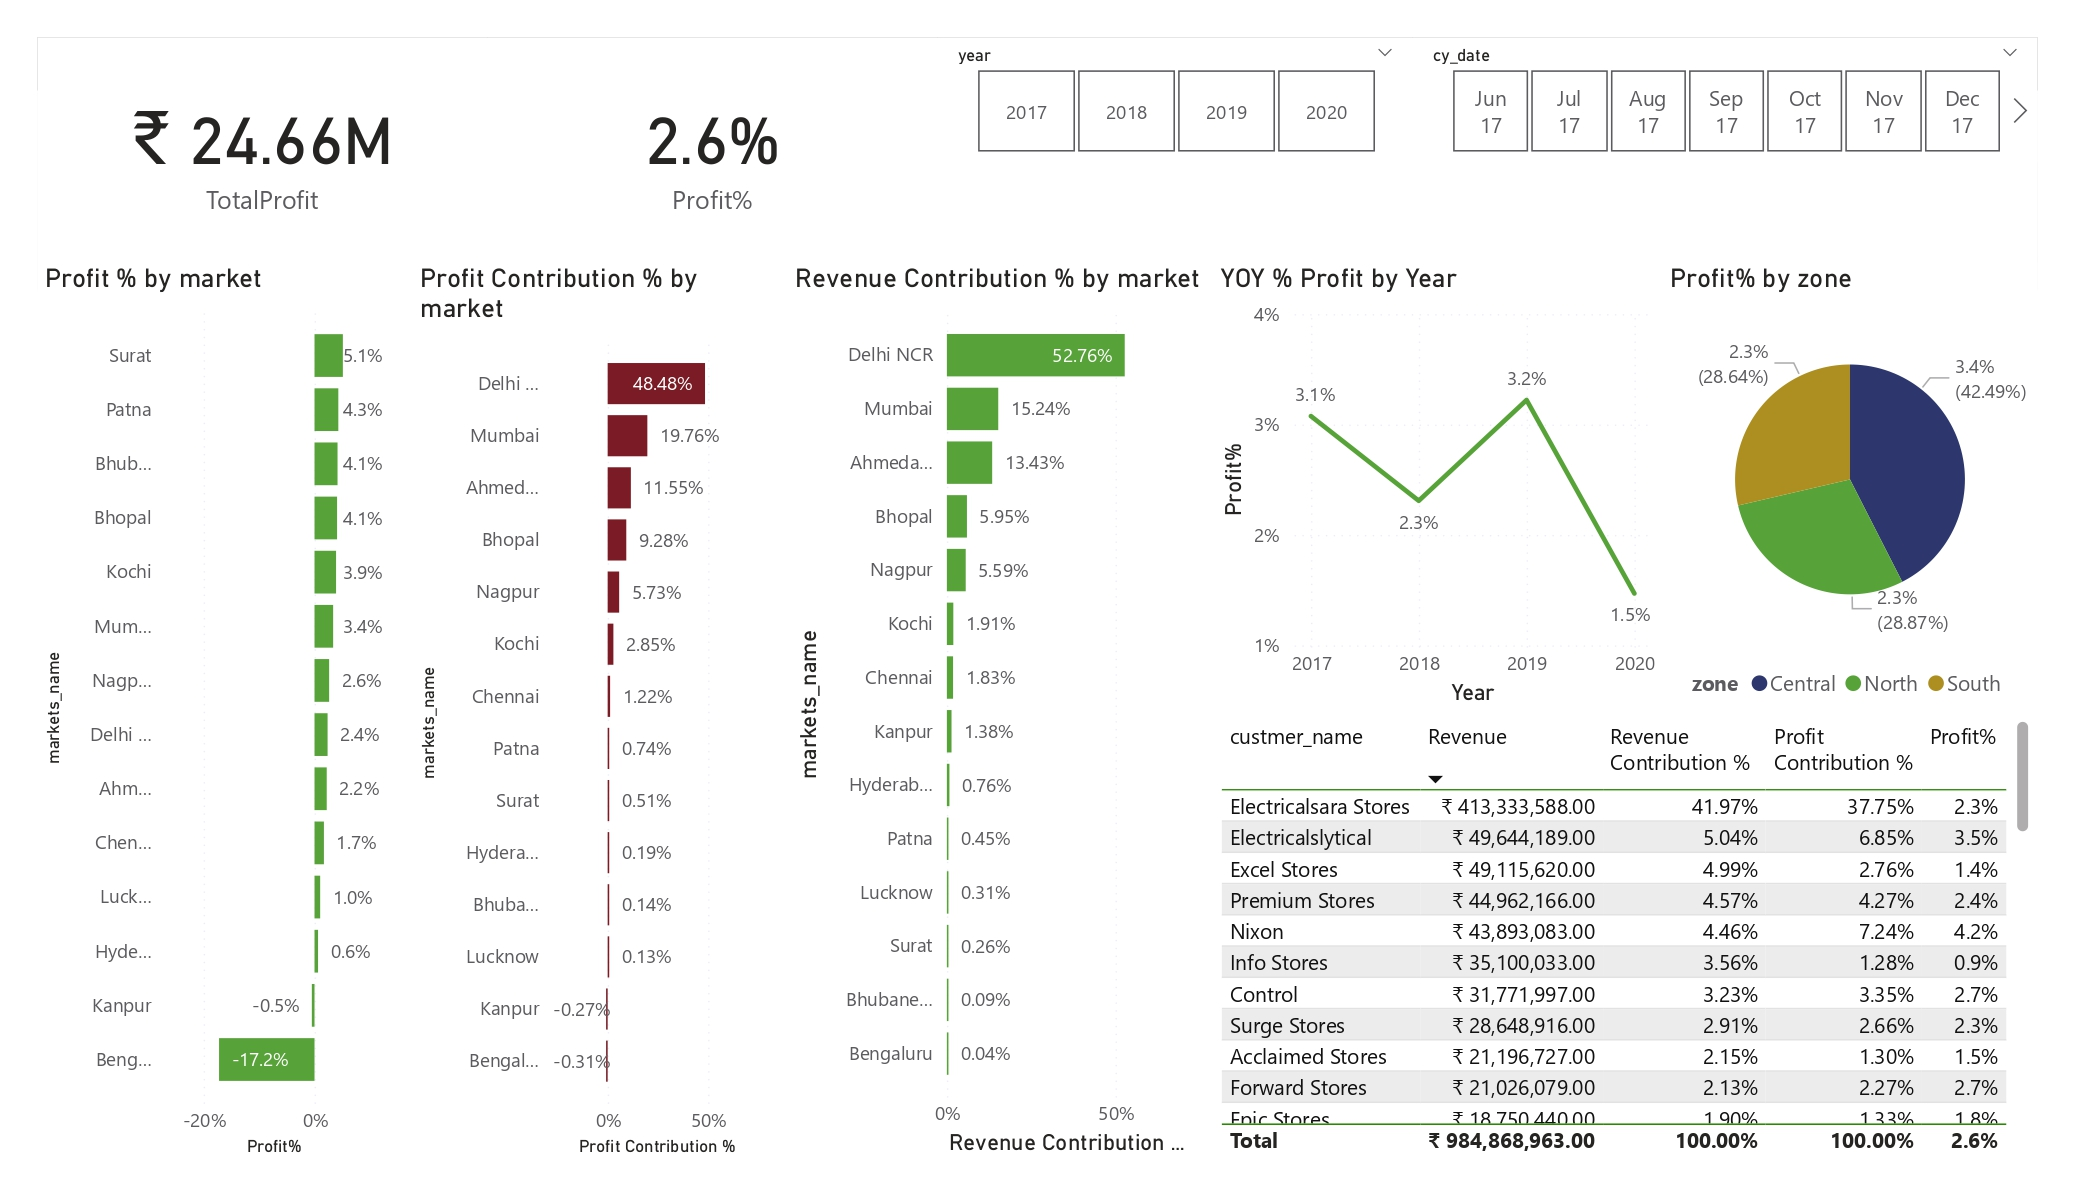

The page's visual inventory and layout, read from the dashboard file:
{"tool":"powerbi","page":{"name":"Profit Insights","canvas":[1280,720],"ordinal":1},"visuals":[{"type":"card","fields":{"Values":["Base Measures.TotalProfit"]},"box":[0,0,288,144],"z":0},{"type":"clusteredBarChart","title":"Revenue Contribution % by market","fields":{"Category":["sales markets.markets_name"],"Y":["Base Measures.Revenue Contribution %"]},"box":[480,144,272,576],"z":1000},{"type":"card","title":"Profit%","fields":{"Values":["Base Measures.Profit%"]},"box":[288,0,288,144],"z":2000},{"type":"clusteredBarChart","title":"Profit % by market","fields":{"Category":["sales markets.markets_name"],"Y":["Base Measures.Profit%"]},"box":[0,144,235,576],"z":3000},{"type":"slicer","fields":{"Values":["sales date.year"]},"box":[576,0,304,80],"z":4000},{"type":"slicer","fields":{"Values":["sales date.cy_date"]},"box":[880,0,400,80],"z":5000},{"type":"tableEx","title":"Top 5 Customers","fields":{"Values":["sales customers.custmer_name","Base Measures.Revenue","Base Measures.Revenue Contribution %","Base Measures.Profit Contribution %","Base Measures.Profit%"]},"box":[752,432,528,288],"z":6000},{"type":"clusteredBarChart","title":"Profit Contribution % by market","fields":{"Category":["sales markets.markets_name"],"Y":["Base Measures.Profit Contribution %"]},"box":[240,144,240,576],"z":7000},{"type":"lineChart","title":"YOY % Profit by Year","fields":{"Y":["Base Measures.Profit%"],"Category":["sales date.cy_date.Variation.Date Hierarchy.Year","sales date.cy_date.Variation.Date Hierarchy.Quarter","sales date.cy_date.Variation.Date Hierarchy.Month","sales date.cy_date.Variation.Date Hierarchy.Day"]},"box":[752,144,288,288],"z":8000},{"type":"pieChart","fields":{"Category":["sales markets.zone"],"Y":["Base Measures.Profit%"]},"box":[1040,144,240,288],"z":9000}]}

Visuals, with their boxes on the page's 1280x720 design canvas (x1, y1, x2, y2). These are canvas units, not pixel positions in the 2075x1200 screenshot, which may show the page scaled, cropped or inside an application window:
card - Base Measures.TotalProfit: [0, 0, 288, 144]
"Revenue Contribution % by market" clusteredBarChart: [480, 144, 752, 720]
"Profit%" card: [288, 0, 576, 144]
"Profit % by market" clusteredBarChart: [0, 144, 235, 720]
slicer - sales date.year: [576, 0, 880, 80]
slicer - sales date.cy_date: [880, 0, 1280, 80]
"Top 5 Customers" tableEx: [752, 432, 1280, 720]
"Profit Contribution % by market" clusteredBarChart: [240, 144, 480, 720]
"YOY % Profit by Year" lineChart: [752, 144, 1040, 432]
pieChart - sales markets.zone x Base Measures.Profit%: [1040, 144, 1280, 432]
